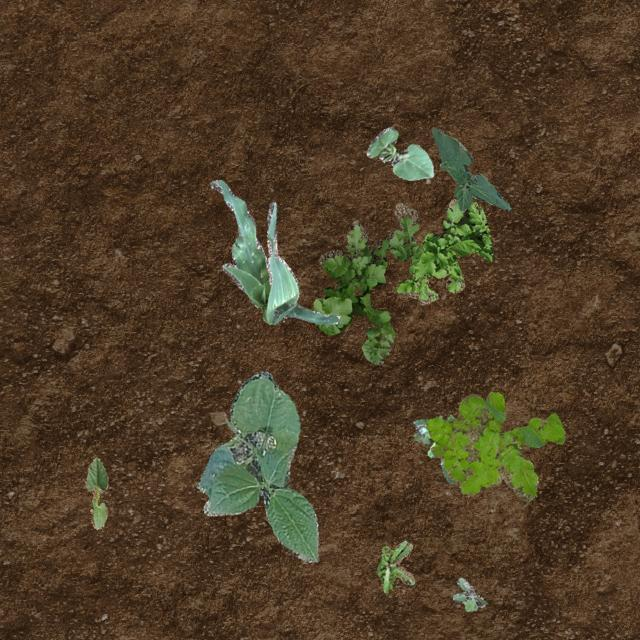crop: (196, 370, 318, 560), (210, 178, 340, 324), (430, 126, 510, 210), (366, 126, 432, 180), (84, 456, 106, 528)
weed: (312, 202, 422, 364), (424, 390, 564, 500), (393, 198, 492, 304), (412, 414, 454, 484), (376, 538, 414, 592), (452, 576, 486, 610)
